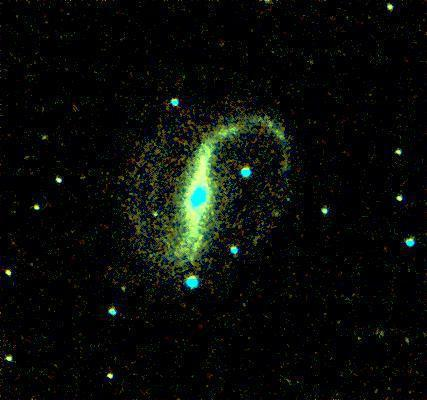star: (198, 199, 228, 229)
